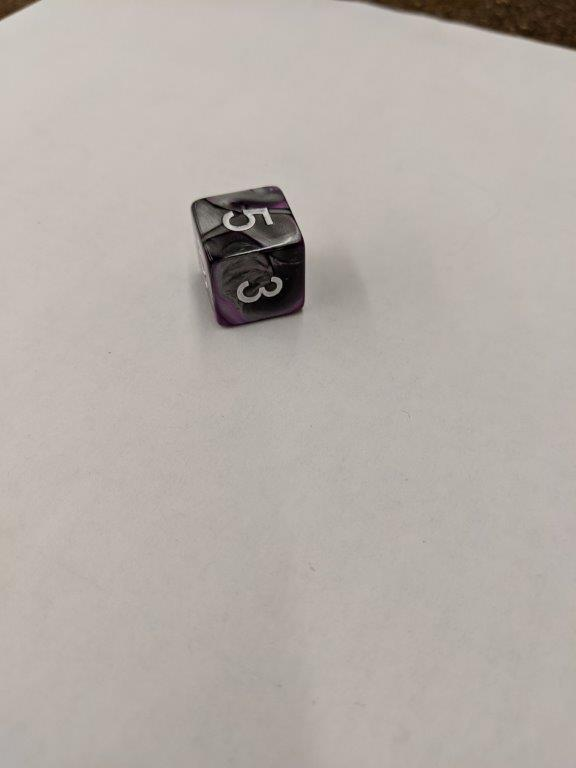d6-5: (189, 186, 307, 329)
